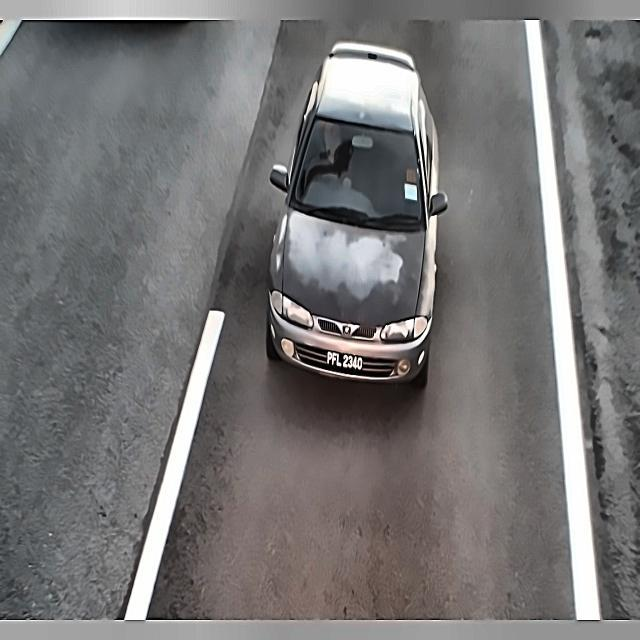car: (314, 337, 372, 381)
